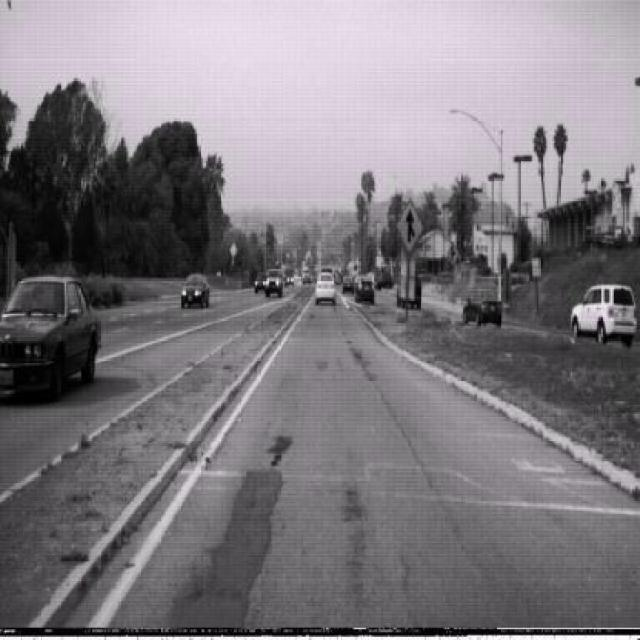merge: (395, 195, 424, 253)
